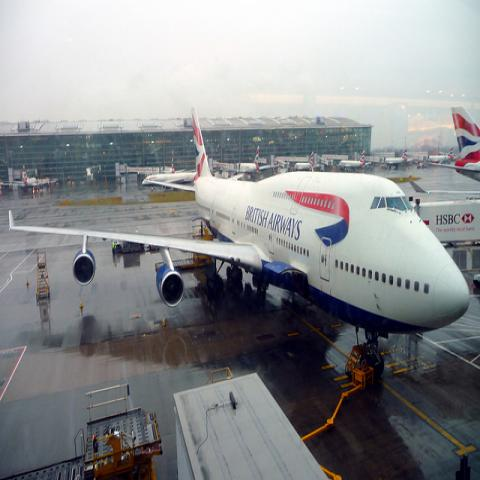truck: (420, 198, 479, 244)
